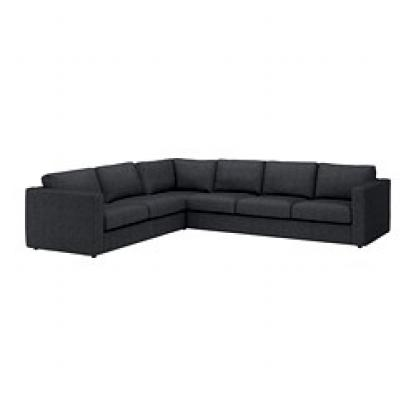Sofa: (10, 145, 398, 270)
